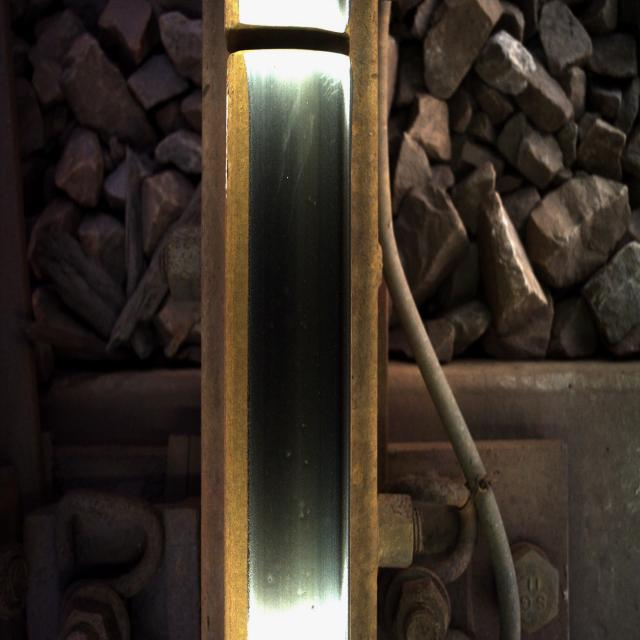spalling: (198, 1, 378, 101)
